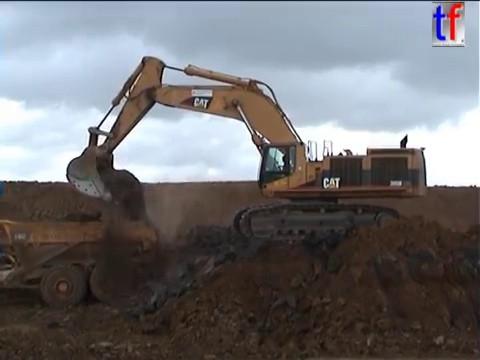excavator: (63, 53, 430, 247)
truck: (1, 215, 160, 310)
